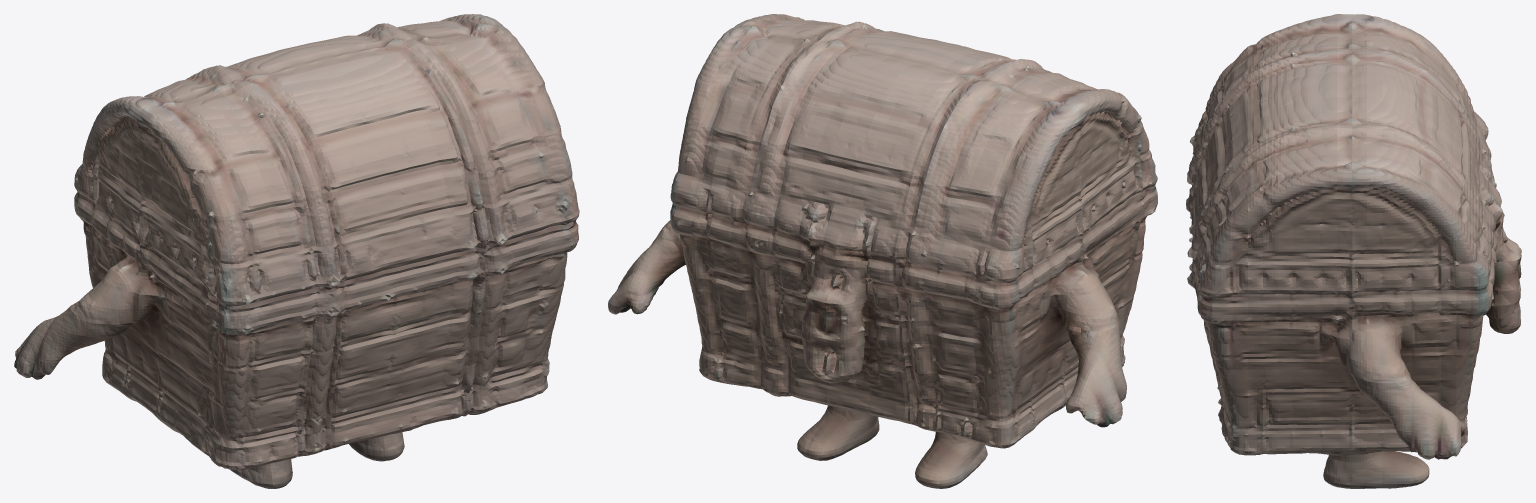
File: bau-raw.glb
The picture shows the model from 3 angles, left to right: view 1: azimuth 30°, elevation 25°; view 2: azimuth 150°, elevation 25°; view 3: azimuth 270°, elevation 25°; orthographic projection. The views are drawn at different scales.
Parts seen in each view (by area): view 1: world; view 2: world; view 3: world.
Boxes of the visible parts, <box> form: world: <box>14,14,579,488</box>; world: <box>608,14,1157,488</box>; world: <box>1186,14,1521,488</box>.
Bounding box in the file's own units: 1.01 × 0.7536 × 0.6161.
